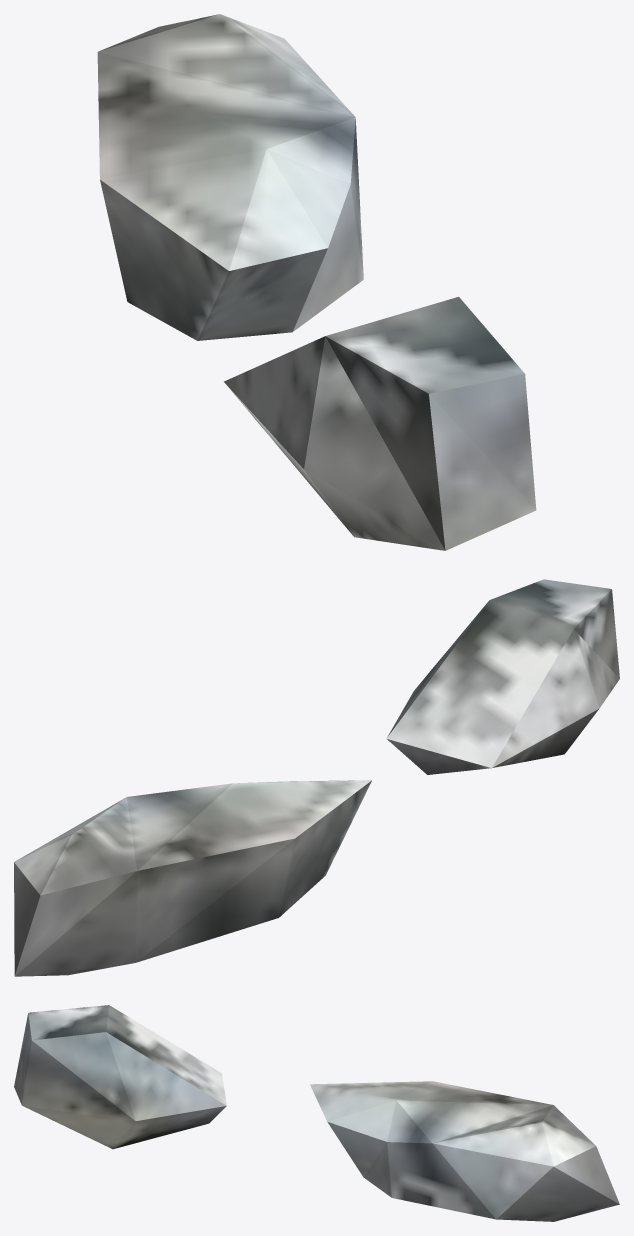
3 renders of one model, top to bottom at view 1: azimuth 30°, elevation 25°; view 2: azimuth 150°, elevation 25°; view 3: azimuth 270°, elevation 25°, orthographic. The views are drawn at different scales.
Bounding box in the file's own units: 0.0827 × 0.0519 × 0.1988.
Materials: 1 (1 with a texture image).
